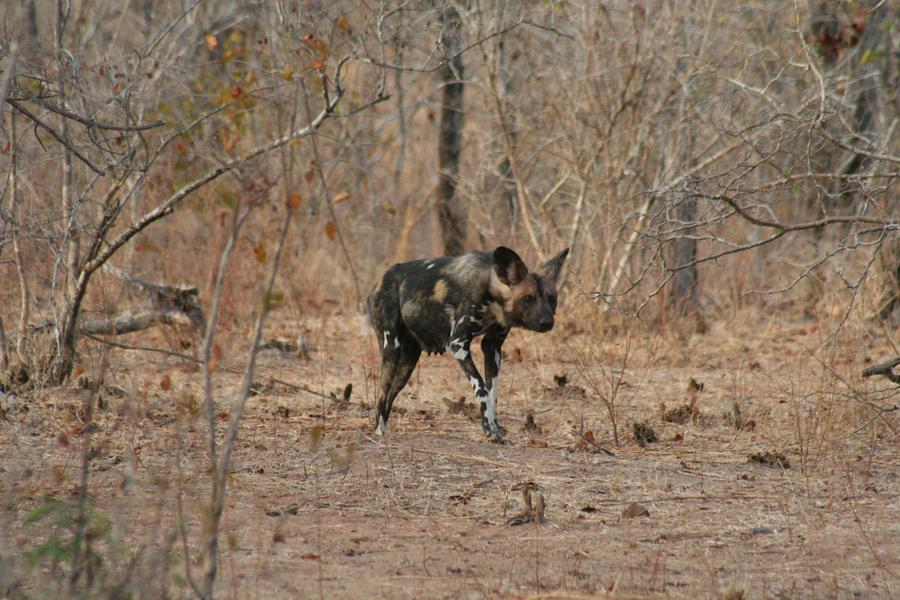wilddog: (359, 246, 589, 389)
